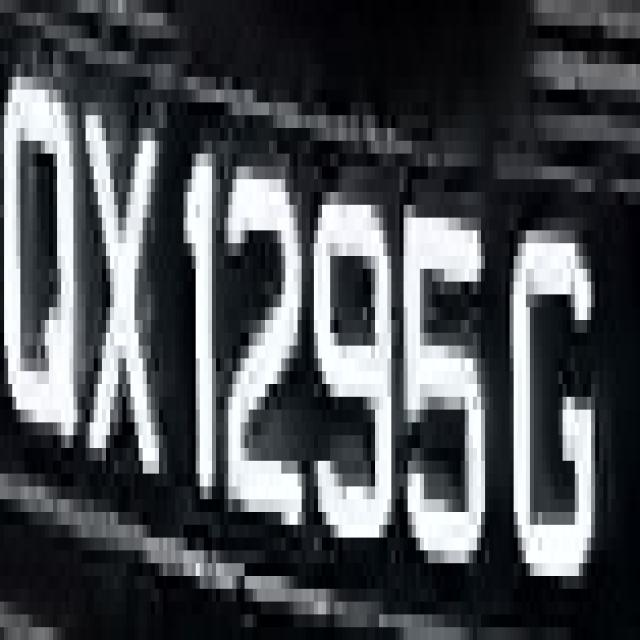1: (171, 90, 216, 538)
2: (216, 90, 306, 563)
5: (404, 179, 493, 576)
9: (306, 141, 408, 550)
G: (506, 179, 616, 602)
Q: (12, 13, 82, 486)
X: (69, 26, 163, 512)
